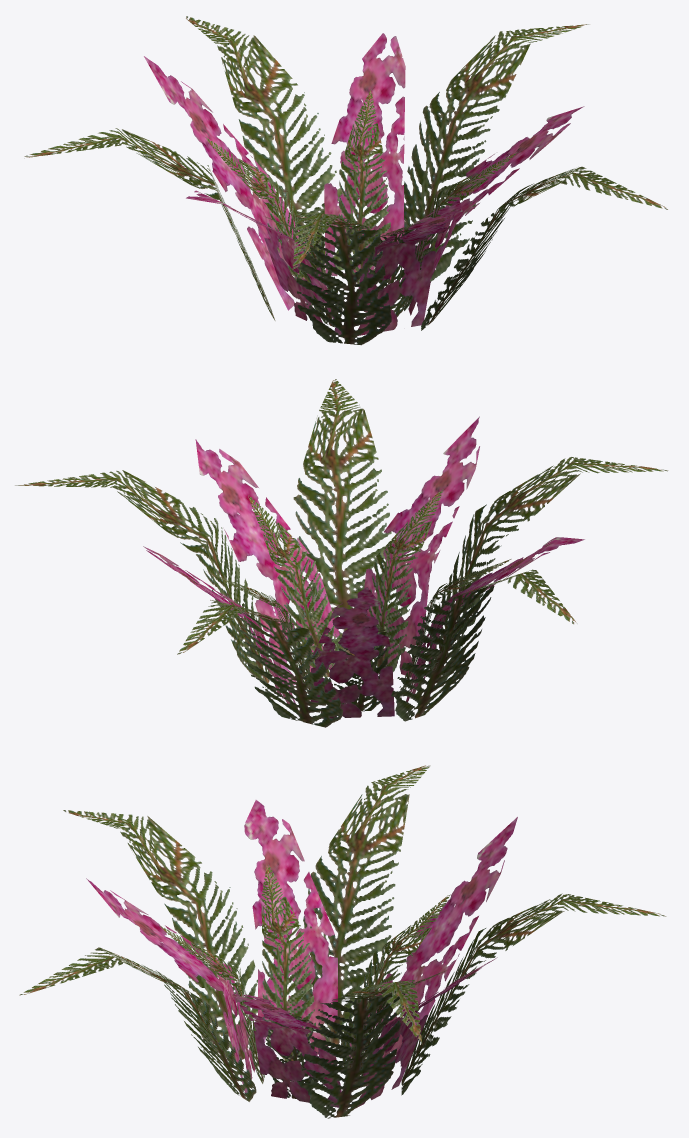
The model's file is MS_Plant_3.fbx.
The picture shows the model from 3 angles, top to bottom: view 1: azimuth 30°, elevation 25°; view 2: azimuth 150°, elevation 25°; view 3: azimuth 270°, elevation 25°; orthographic projection.
Visible parts, largest first — view 1: Plane; view 2: Plane; view 3: Plane.
Part boxes in pixels (x1,y1,x2,y2): Plane: (24, 16, 667, 345); Plane: (15, 379, 668, 727); Plane: (19, 765, 666, 1118).
Size of the model in its own units: 16.93 by 5.87 by 16.78.
